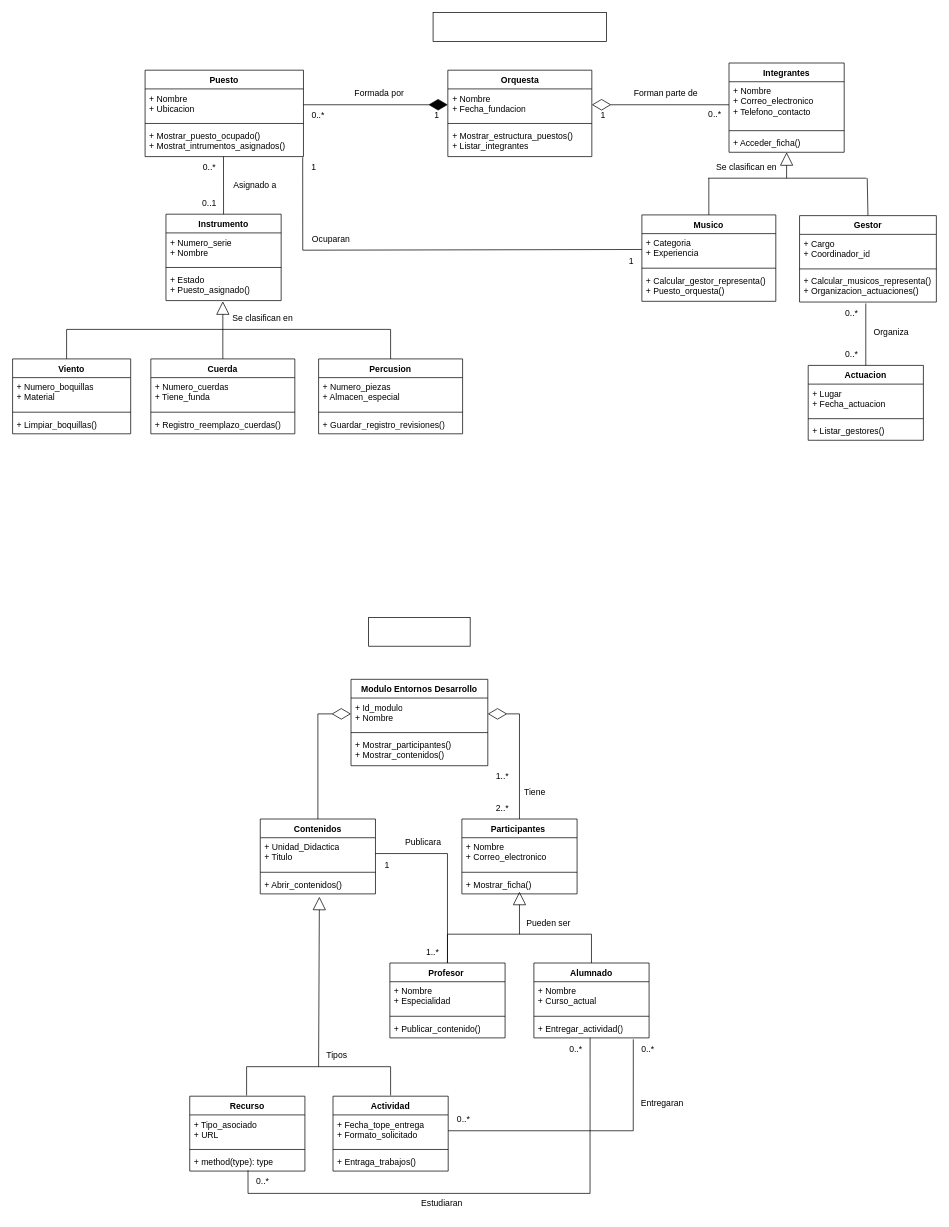
Some shapes in this 949 by 1227 pixel diagram are drawn without their labels. Here are the shapes that lost their labels. From the top down, the centre of each, then its label:
At (x=519, y=26): "ORQUESTA MUNICIPAL DE VALENCIA".
At (x=419, y=631): "FLORIDA OBERTA".
